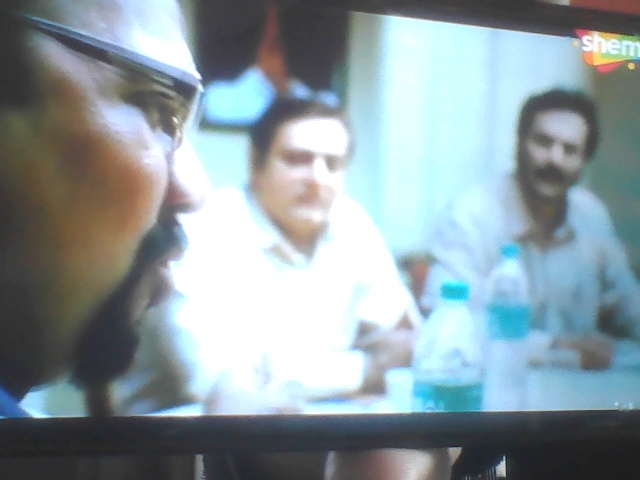fake: (247, 89, 353, 240)
